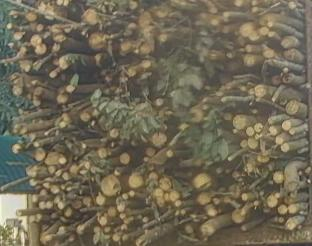large: (100, 176, 120, 196), (90, 32, 107, 50), (194, 174, 211, 190), (83, 9, 98, 25), (153, 133, 167, 148), (152, 152, 167, 165), (239, 23, 252, 37), (129, 174, 142, 188), (284, 220, 296, 231), (267, 196, 277, 208), (265, 14, 275, 22)
medium: (254, 84, 277, 99), (46, 153, 65, 165), (285, 102, 298, 115), (234, 117, 247, 129), (31, 34, 43, 46), (160, 178, 171, 191), (119, 41, 133, 51), (281, 37, 293, 48), (233, 211, 244, 223), (93, 228, 101, 244), (202, 225, 213, 236), (36, 43, 47, 54), (257, 153, 269, 163), (140, 44, 152, 54), (41, 235, 53, 245), (57, 94, 69, 104), (244, 55, 254, 66), (199, 194, 210, 204), (61, 114, 72, 124), (286, 182, 298, 191), (120, 152, 129, 164), (283, 49, 293, 59), (69, 165, 79, 175), (26, 167, 36, 177), (12, 145, 22, 155), (274, 173, 283, 184), (35, 149, 44, 160), (206, 209, 218, 217), (53, 34, 65, 42), (170, 192, 179, 202), (59, 59, 68, 69), (263, 49, 274, 57), (14, 32, 25, 40), (26, 13, 37, 21), (249, 139, 258, 148), (149, 171, 158, 180), (96, 196, 105, 205), (62, 173, 71, 182), (156, 10, 167, 17), (288, 1, 296, 10), (278, 206, 287, 214), (288, 205, 297, 213), (155, 189, 163, 198), (19, 126, 28, 134), (67, 85, 75, 94), (14, 87, 23, 95), (141, 61, 151, 68), (245, 45, 253, 53), (260, 27, 268, 35), (147, 148, 155, 156), (108, 208, 116, 216), (99, 148, 106, 157), (77, 226, 84, 235), (84, 197, 91, 206), (51, 187, 60, 194), (224, 113, 232, 120), (241, 195, 248, 202), (38, 203, 45, 210), (45, 202, 52, 209), (39, 190, 46, 197), (284, 197, 290, 205), (100, 218, 106, 226), (57, 203, 65, 209), (53, 197, 61, 203), (29, 180, 37, 186), (35, 87, 41, 95), (175, 201, 181, 207), (6, 23, 12, 29), (56, 0, 63, 5), (31, 196, 37, 201), (34, 142, 40, 147), (64, 0, 69, 6)
small: (281, 144, 290, 153), (269, 126, 277, 136), (255, 124, 263, 133), (247, 129, 255, 138), (81, 113, 89, 122), (33, 98, 42, 106), (159, 34, 167, 42), (110, 130, 118, 138), (222, 26, 231, 33), (157, 198, 164, 207), (26, 217, 35, 224), (283, 122, 290, 130), (276, 137, 283, 145), (240, 141, 248, 148), (117, 204, 124, 212), (113, 235, 121, 242), (65, 209, 72, 217), (35, 215, 43, 222), (37, 24, 44, 32), (234, 0, 243, 6), (185, 226, 192, 233), (122, 193, 129, 200), (116, 197, 123, 204), (95, 175, 101, 183), (209, 8, 218, 13), (213, 199, 220, 205), (157, 99, 164, 105), (130, 2, 137, 8), (95, 54, 101, 61), (105, 75, 112, 81), (119, 214, 126, 220), (123, 219, 130, 225), (59, 228, 65, 235), (85, 163, 91, 170), (59, 122, 66, 128), (24, 66, 31, 72), (210, 20, 218, 25), (289, 128, 295, 134), (226, 53, 232, 59), (167, 151, 173, 157), (129, 191, 135, 197), (114, 170, 120, 176), (51, 214, 57, 220), (268, 32, 275, 37), (254, 201, 259, 208), (64, 28, 71, 33), (216, 92, 224, 96), (240, 86, 246, 91), (252, 0, 258, 5), (252, 7, 258, 12), (223, 12, 229, 17), (203, 105, 209, 110), (241, 226, 246, 232), (224, 198, 230, 203), (181, 210, 186, 216), (121, 225, 127, 230), (122, 236, 128, 241), (91, 167, 96, 173), (60, 185, 65, 191), (60, 218, 66, 223), (16, 211, 22, 216), (44, 183, 49, 189), (268, 118, 272, 125), (164, 194, 168, 201), (80, 171, 87, 175), (221, 97, 226, 102), (255, 97, 260, 102), (216, 169, 221, 174), (143, 217, 148, 222), (0, 188, 5, 193), (45, 32, 50, 37), (220, 86, 226, 90), (190, 215, 196, 219), (100, 138, 106, 142), (104, 228, 110, 232), (104, 236, 110, 240), (66, 188, 72, 192), (21, 116, 25, 122), (50, 72, 54, 78), (283, 68, 288, 72), (268, 22, 273, 26), (226, 84, 230, 89), (203, 98, 208, 102), (144, 158, 148, 163), (233, 129, 237, 133), (227, 158, 231, 162), (269, 181, 273, 185), (275, 194, 279, 198), (124, 77, 128, 81), (69, 239, 73, 243), (45, 132, 49, 136), (205, 87, 210, 90), (193, 220, 198, 223), (143, 225, 146, 230), (91, 177, 94, 182), (241, 183, 245, 186), (203, 217, 207, 220), (138, 216, 142, 219), (111, 143, 114, 147), (79, 191, 82, 195), (5, 163, 9, 166), (37, 63, 40, 67), (10, 11, 14, 14), (204, 118, 207, 121), (80, 210, 83, 213), (226, 171, 230, 173), (241, 175, 244, 177), (236, 175, 239, 177), (238, 180, 241, 182), (247, 184, 250, 186), (257, 171, 259, 173), (245, 170, 247, 172), (248, 174, 249, 176)
